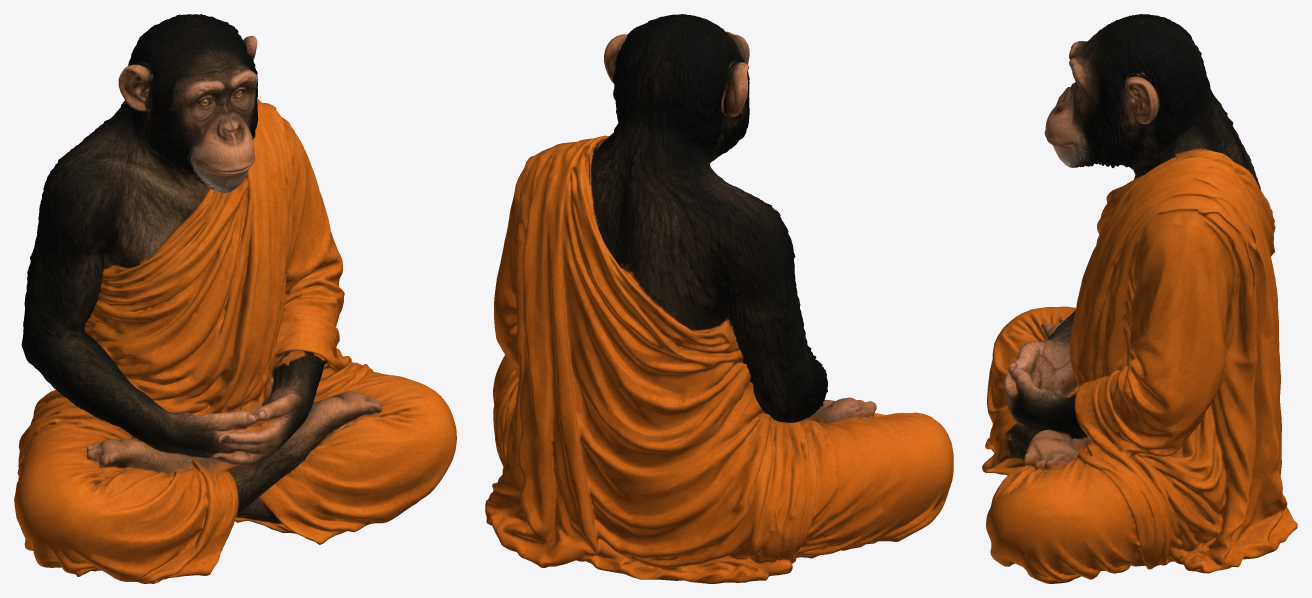
File: monkey.glb
The picture shows the model from 3 angles, left to right: view 1: azimuth 30°, elevation 25°; view 2: azimuth 150°, elevation 25°; view 3: azimuth 270°, elevation 25°; orthographic projection. The views are drawn at different scales.
Visible parts, largest first — view 1: monkey; view 2: monkey; view 3: monkey.
Part boxes in pixels (bbox=[...]): monkey: bbox=[14, 14, 456, 583]; monkey: bbox=[485, 14, 953, 583]; monkey: bbox=[982, 14, 1297, 583].
Bounding box in the file's own units: 1.24 × 1.36 × 0.8058.
1 material, 1 textured.
